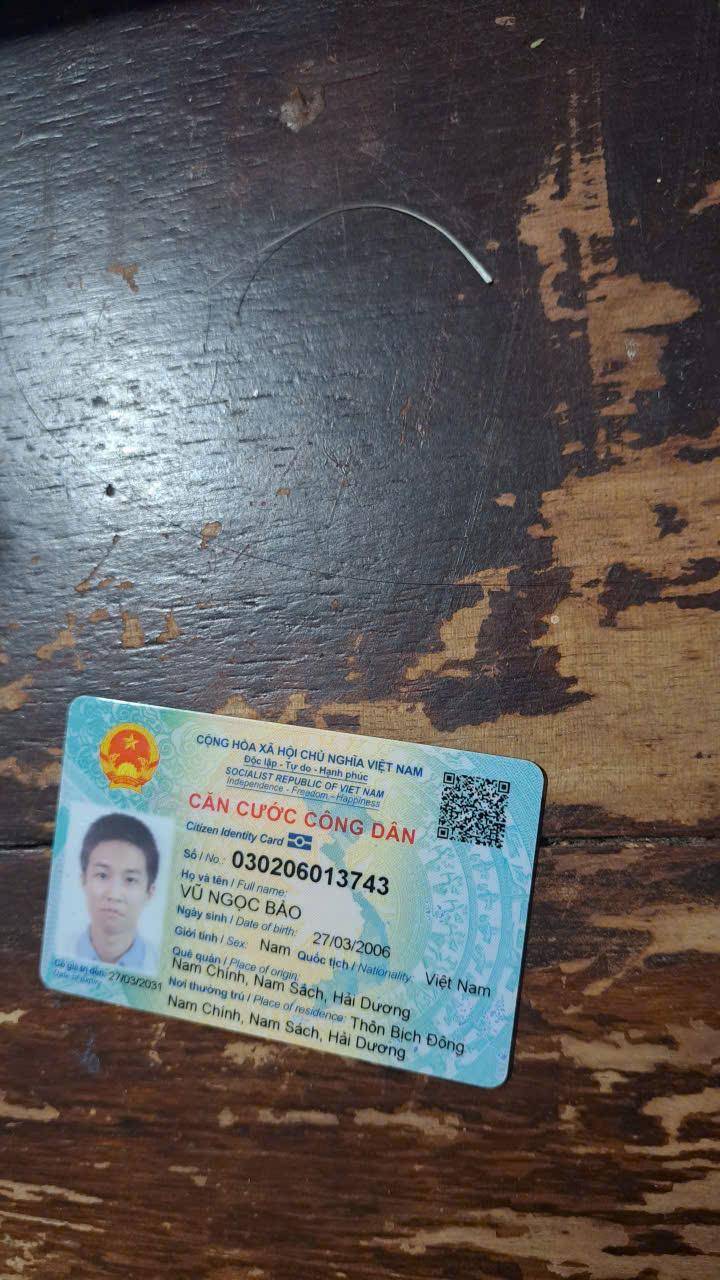cccd: (34, 687, 555, 1102)
